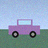vehicle: (8, 20, 40, 38)
